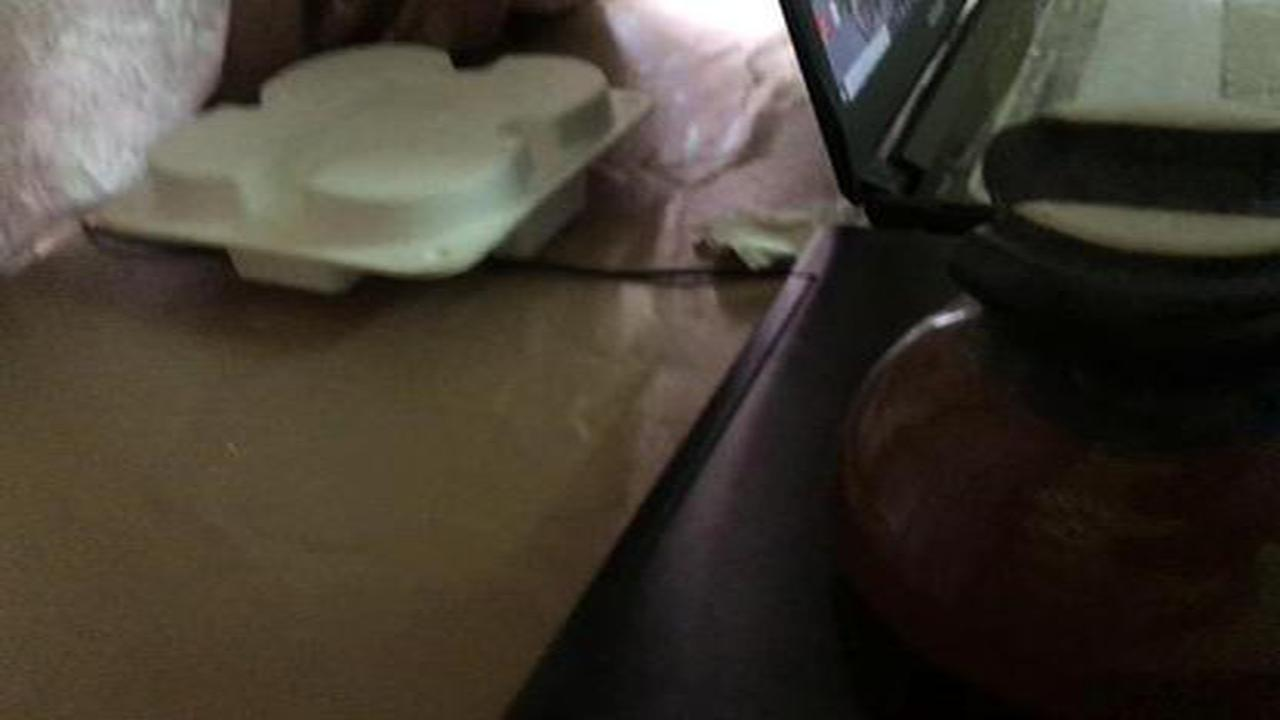insulator_pin: (813, 106, 1277, 670)
